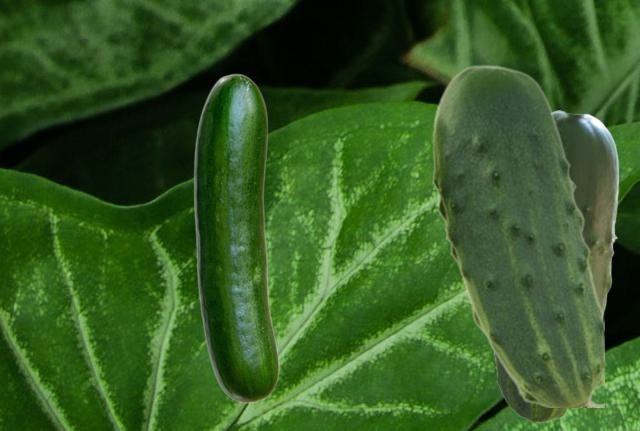cucumber: (432, 64, 603, 406), (491, 110, 618, 422), (193, 73, 278, 402)
